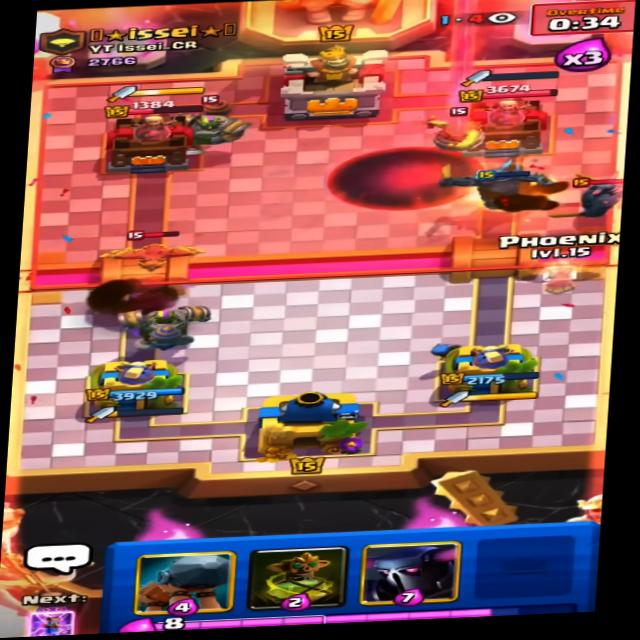goblin-demolisher: (412, 108, 497, 162)
goblin-machine: (149, 91, 264, 156)
pekka: (548, 163, 627, 223)
phoenix: (97, 222, 214, 275)
